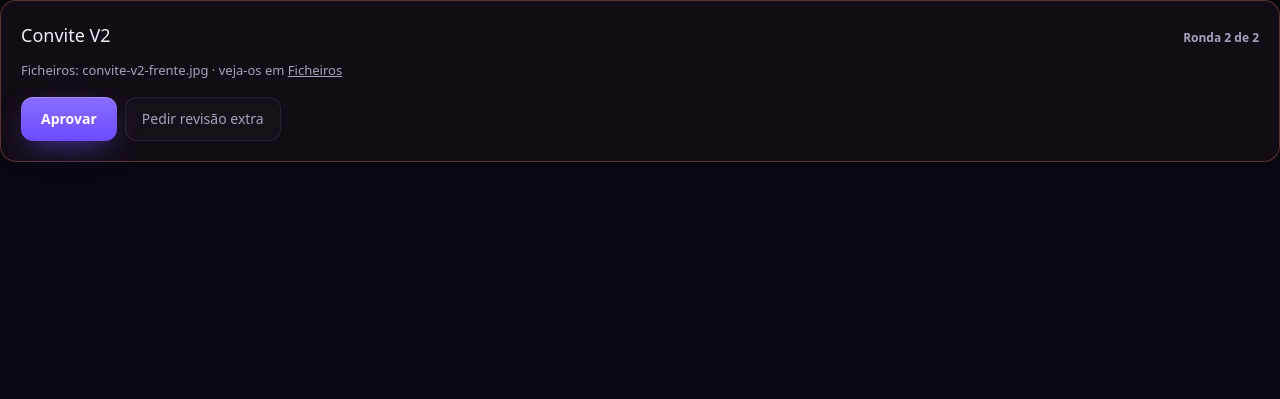
Test case: ApprovalCard com rondas › sem rondas: 'Pedir revisão extra' em vez de 'Pedir alterações', e envia o pedido ao João
Click the button "Pedir revisão extra": (203, 118) x1=125 y1=96 x2=281 y2=140
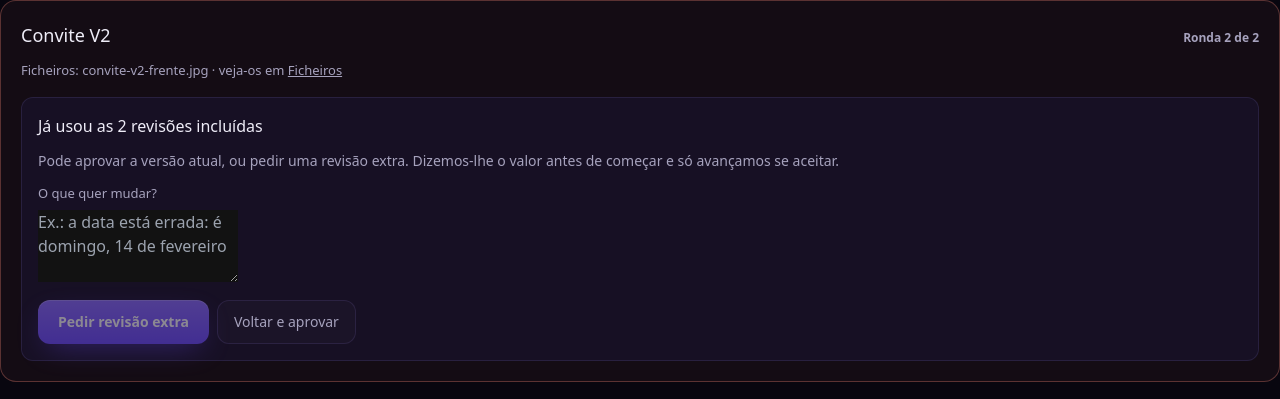
Result: the text "Já usou as 2 revisões incluídas" is shown at x1=38 y1=114 x2=263 y2=136
In the text box: (138, 246) x1=38 y1=210 x2=238 y2=282, type "A data é domingo"
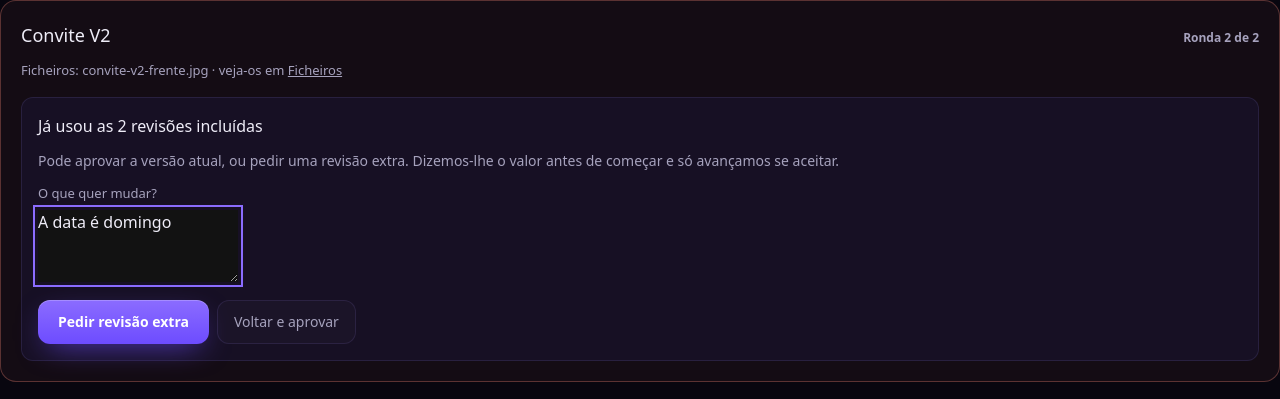
Click the button "Pedir revisão extra": (123, 322) x1=38 y1=300 x2=209 y2=344
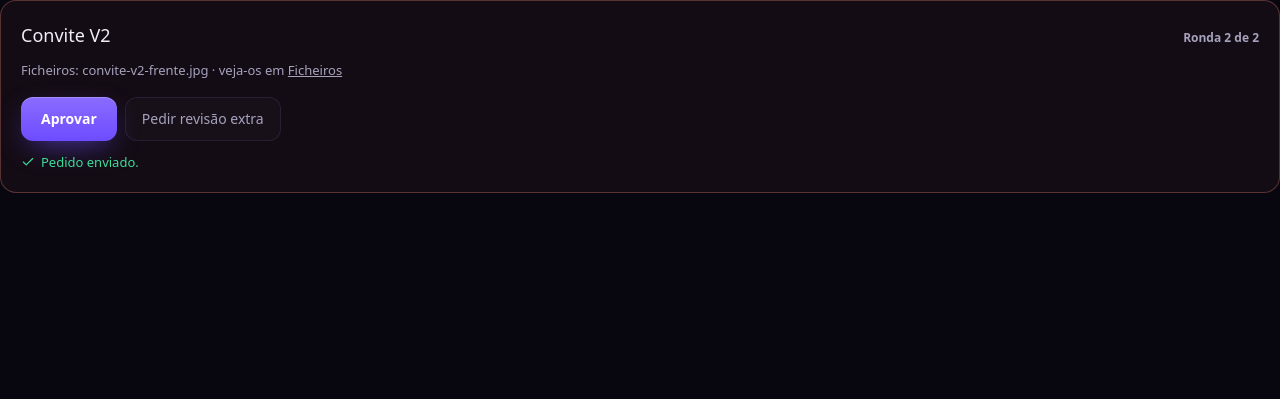
Result: the message reads "Pedido enviado." at x1=41 y1=152 x2=139 y2=170
